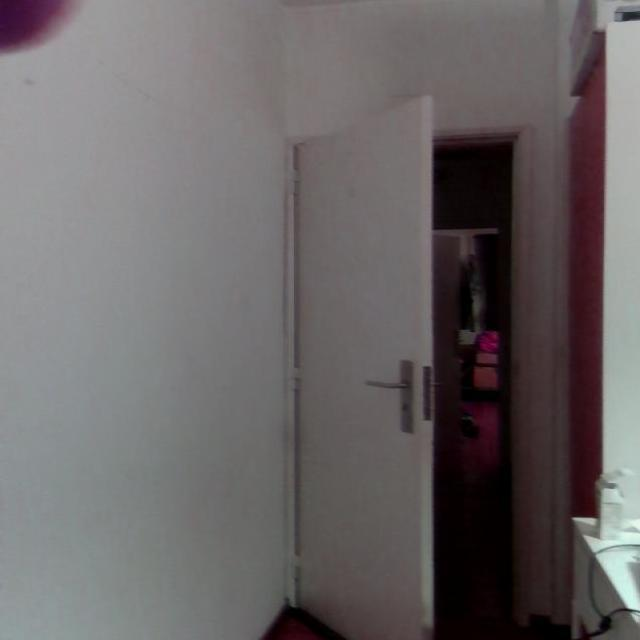door: (291, 94, 435, 638)
